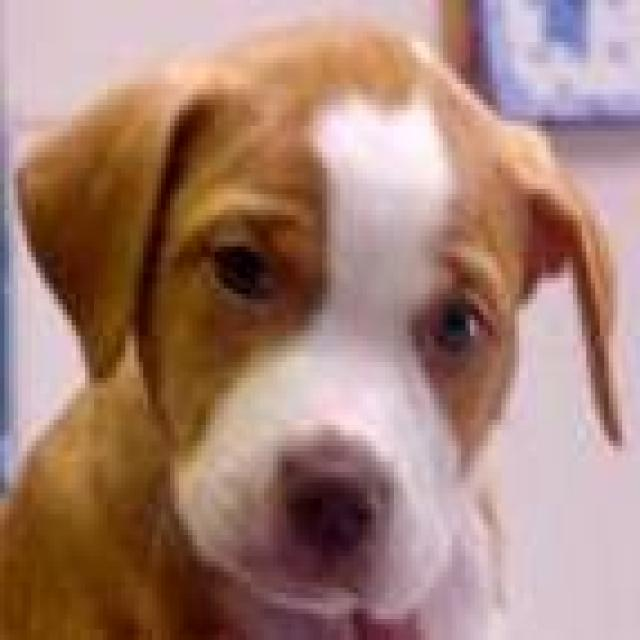dog: (0, 10, 627, 635)
